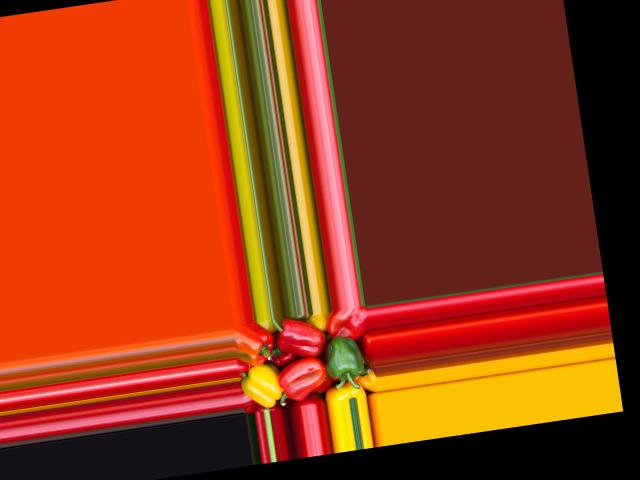bell_pepper: (238, 358, 287, 413)
